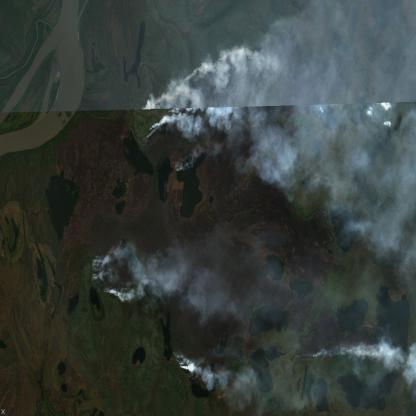fire: (88, 233, 416, 399), (139, 40, 252, 143)
